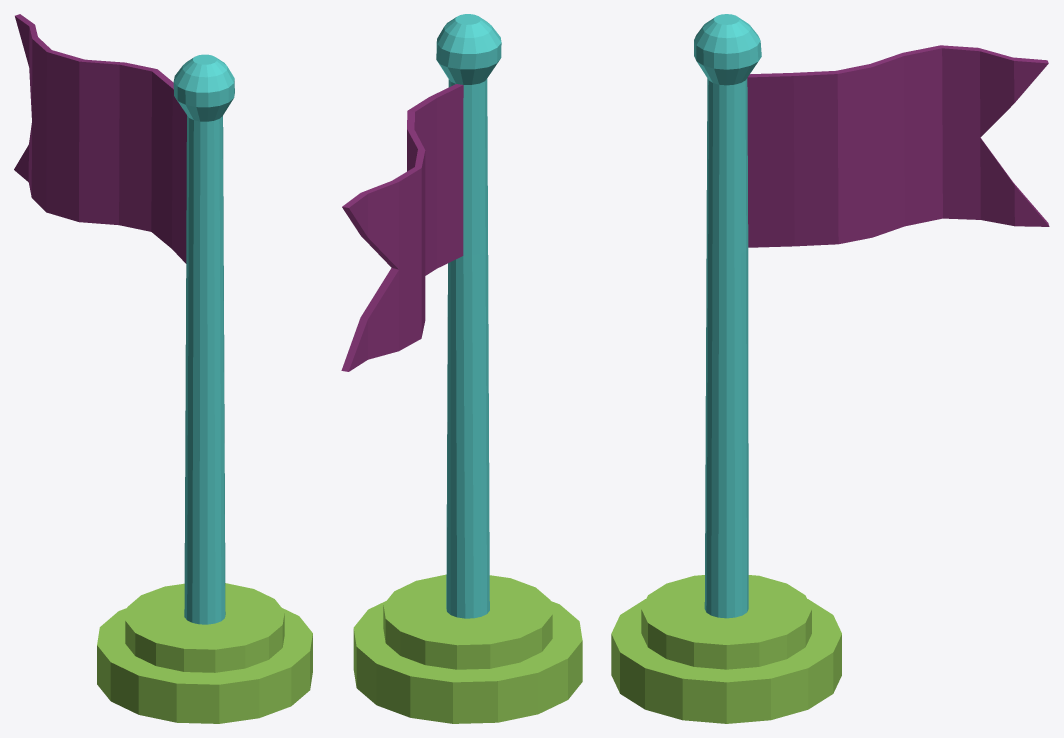
File: Flag.fbx
3 views of the same model, side by side, from view 1: azimuth 30°, elevation 25°; view 2: azimuth 150°, elevation 25°; view 3: azimuth 270°, elevation 25° (orthographic). The views are drawn at different scales.
Visible parts, largest first — view 1: Flag; view 2: Flag; view 3: Flag.
Part boxes in pixels (left/top/right/bottom): Flag: left=14, top=14, right=312, bottom=723; Flag: left=341, top=14, right=582, bottom=723; Flag: left=611, top=14, right=1049, bottom=723.
Bounding box in the file's own units: 82.15 × 258 × 156.
